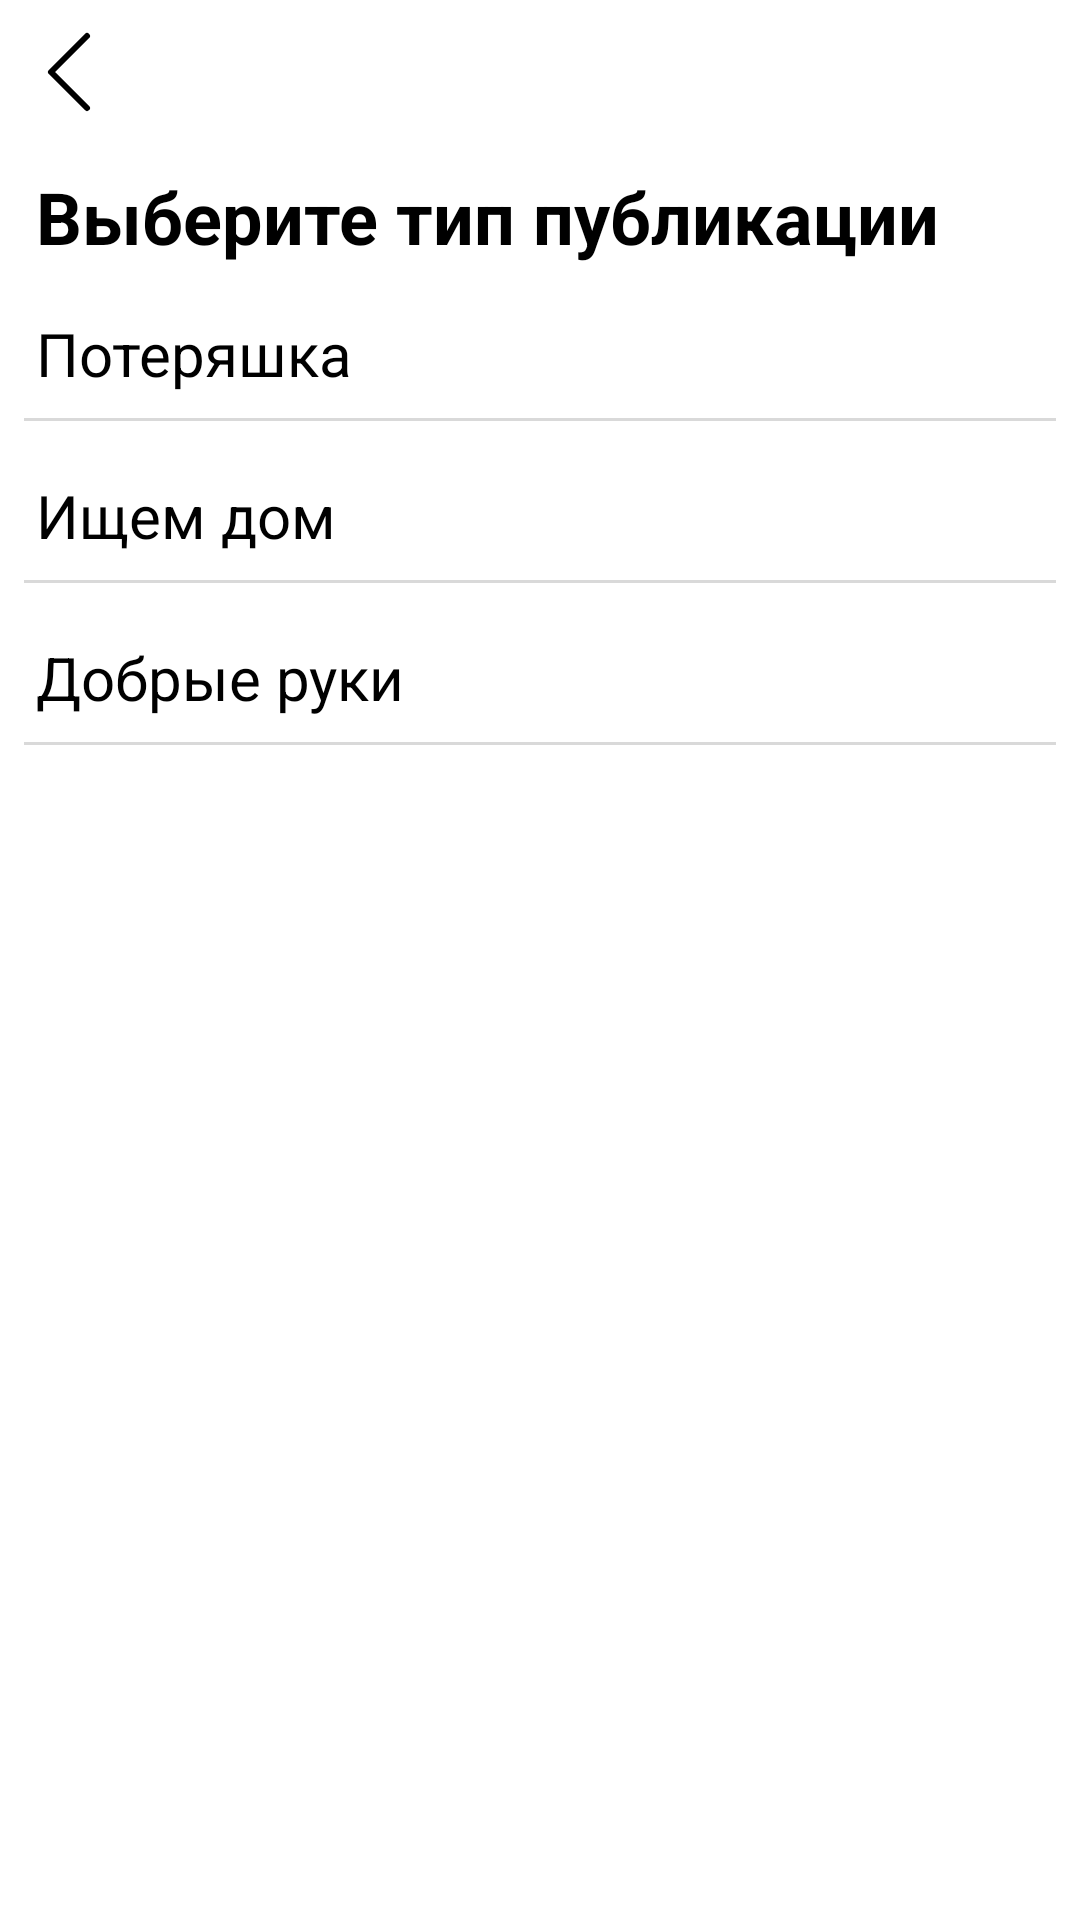

Icons on this 1080×1920 Android screen, each with the point to tap as point (x, y):
back arrow: point (69, 71)
